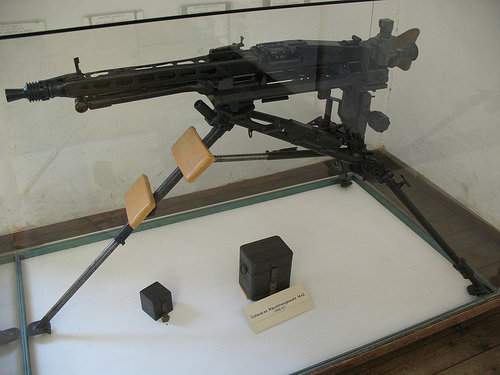rifle: (5, 45, 487, 330)
